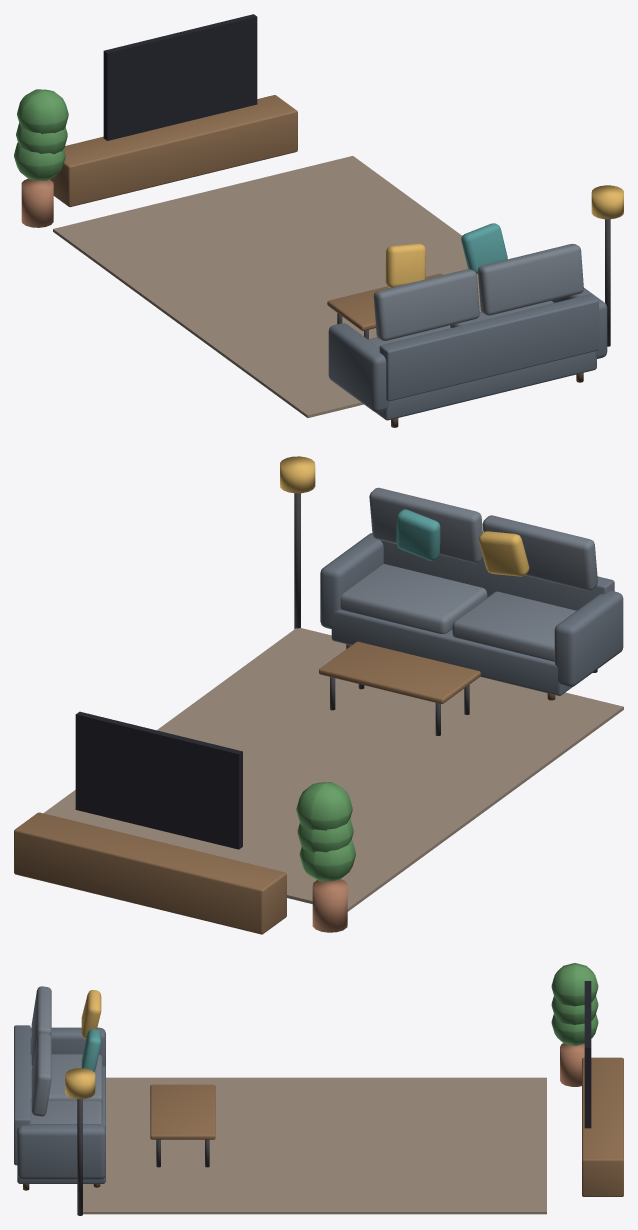
File: livingroom.glb
3 views of the same model, one above another, from view 1: azimuth 30°, elevation 25°; view 2: azimuth 150°, elevation 25°; view 3: azimuth 270°, elevation 25° (orthographic). The views are drawn at different scales.
Visible parts, largest first — view 1: LivingRoom; view 2: LivingRoom; view 3: LivingRoom.
Boxes of the visible parts, bbox=[...] form: LivingRoom: bbox=[14, 14, 623, 427]; LivingRoom: bbox=[14, 456, 623, 934]; LivingRoom: bbox=[14, 963, 623, 1215].
Bounding box in the file's own units: 3.79 × 1.66 × 6.53.
